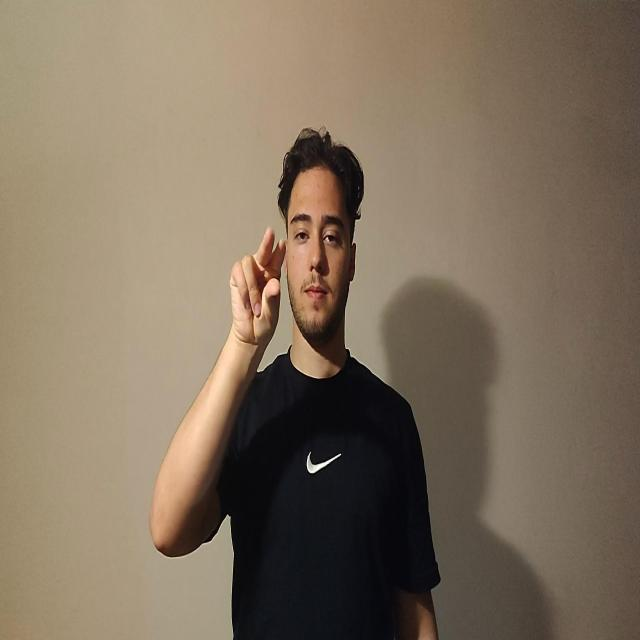no: (229, 226, 286, 348)
